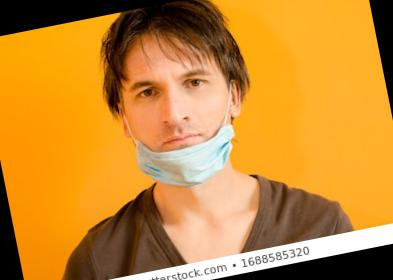mask_weared_incorrect: (119, 60, 246, 190)
